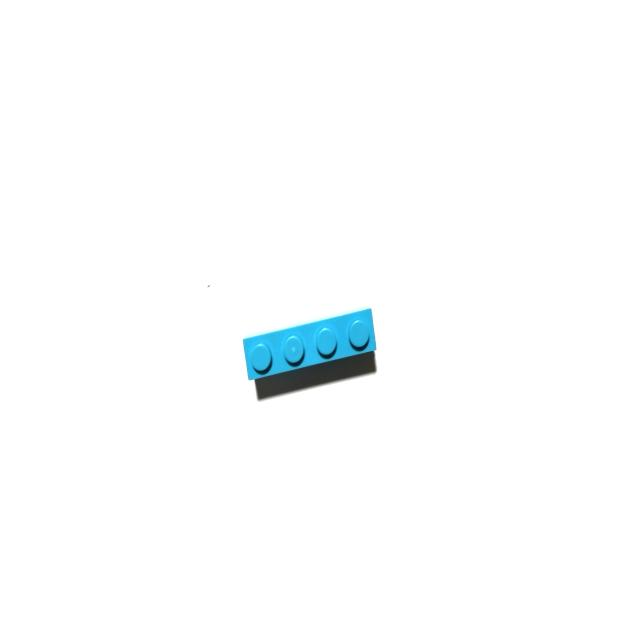Blue_Medium: (242, 306, 376, 380)
